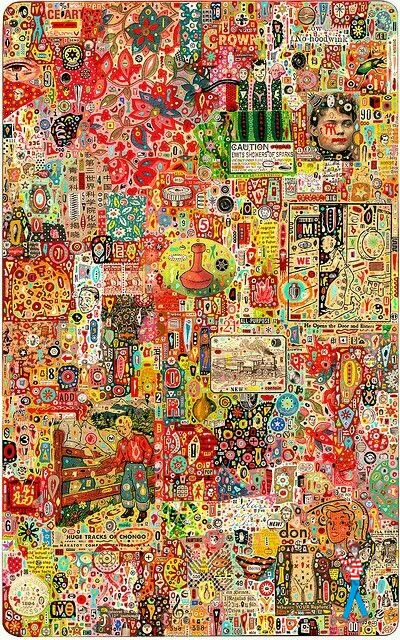waldo: (334, 541, 370, 623)
